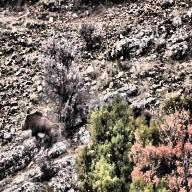boar: (22, 106, 52, 144)
